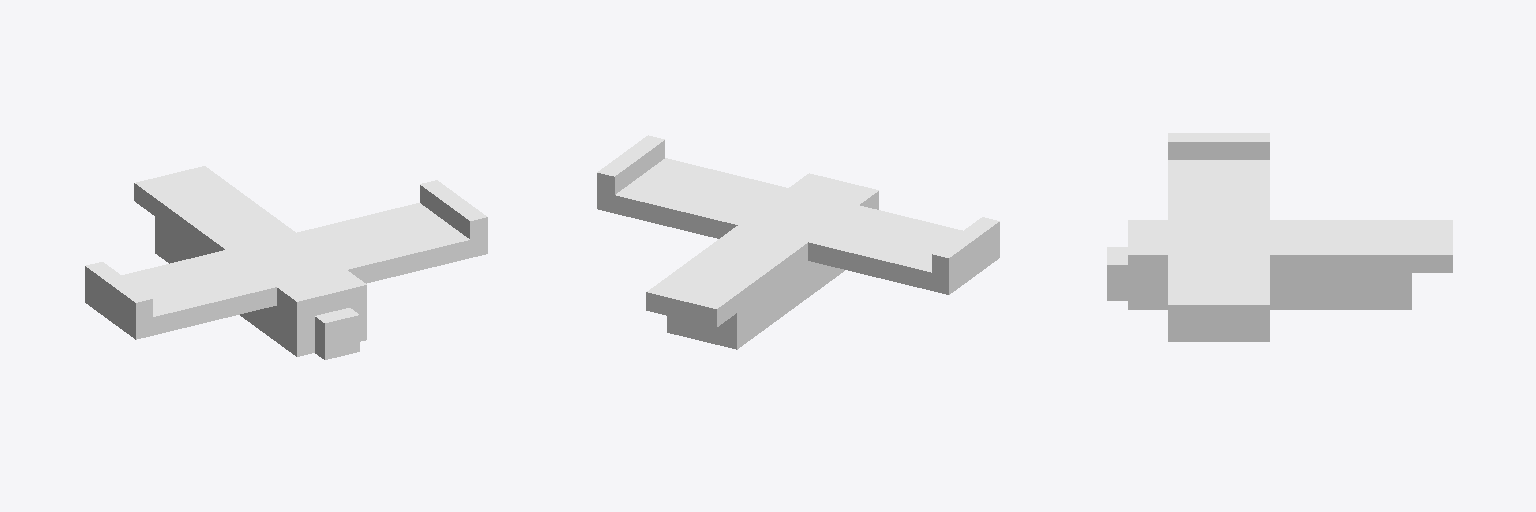
File: eagle.obj
3 views of the same model, side by side, from view 1: azimuth 30°, elevation 25°; view 2: azimuth 150°, elevation 25°; view 3: azimuth 270°, elevation 25° (orthographic).
Size of the model in its own units: 20 by 4 by 17.